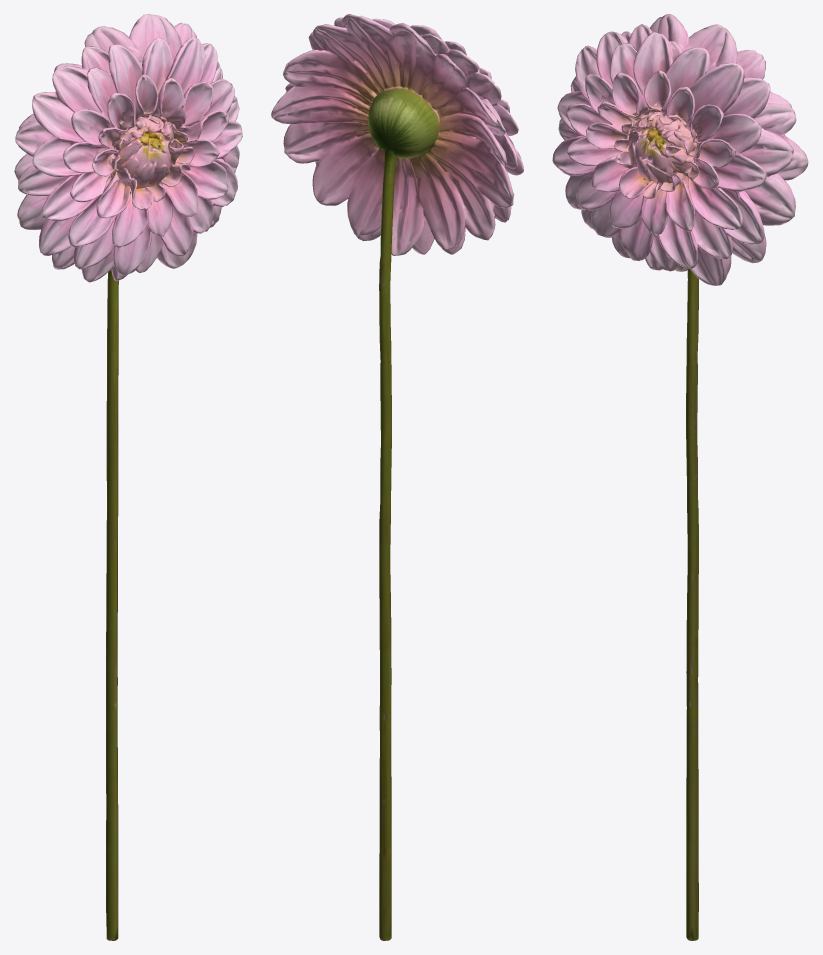
The model's file is pink.glb.
The picture shows the model from 3 angles, left to right: view 1: azimuth 30°, elevation 25°; view 2: azimuth 150°, elevation 25°; view 3: azimuth 330°, elevation 25°; orthographic projection.
Bounding box in the file's own units: 0.4967 × 1.9 × 0.1952.
Materials: 1 (1 with a texture image).
